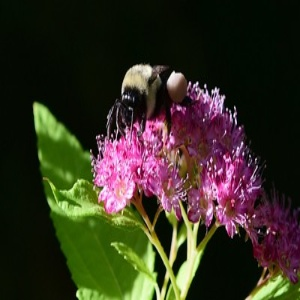bee: (104, 56, 200, 152)
